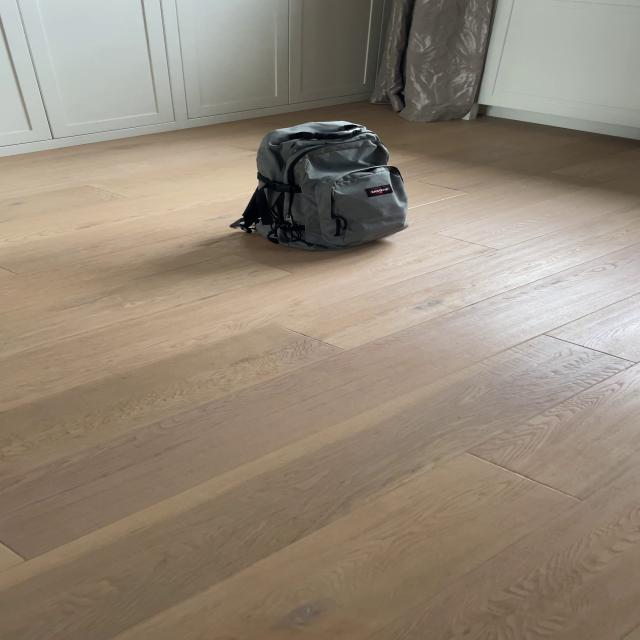backpack: (231, 115, 415, 258)
